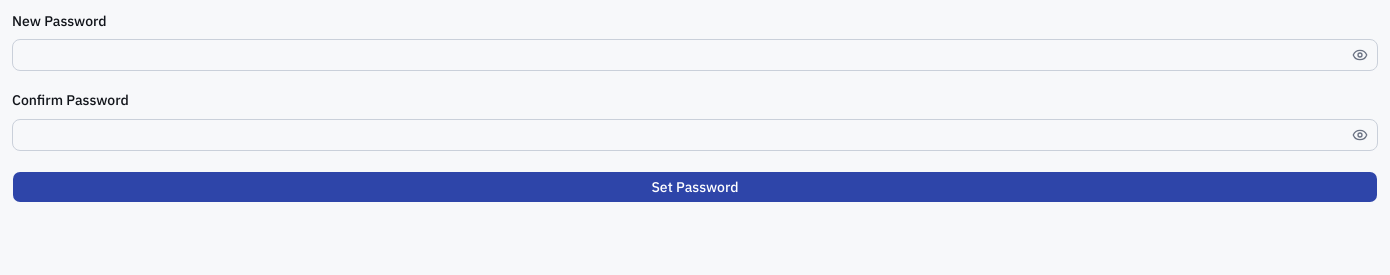
Test: SetPasswordForm › shows a mismatch error below Confirm Password
In the password field labelled "New Password": (695, 55) [12,39,1378,71], type "ValidPassword123!"
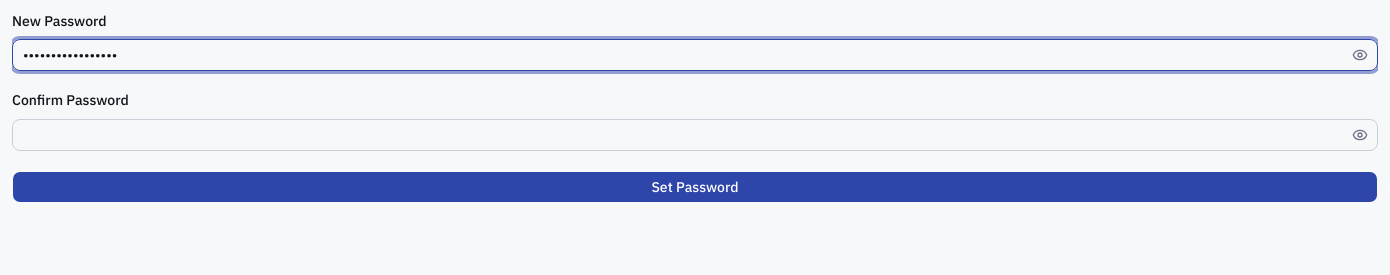
In the password field labelled "Confirm Password": (695, 134) [12,118,1378,150], type "DifferentPassword123!"
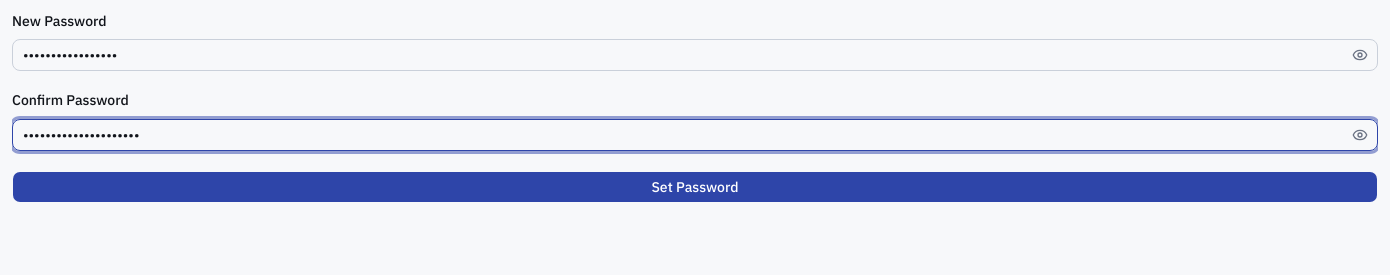
Click the button "Set Password": (695, 186) [12,170,1378,202]
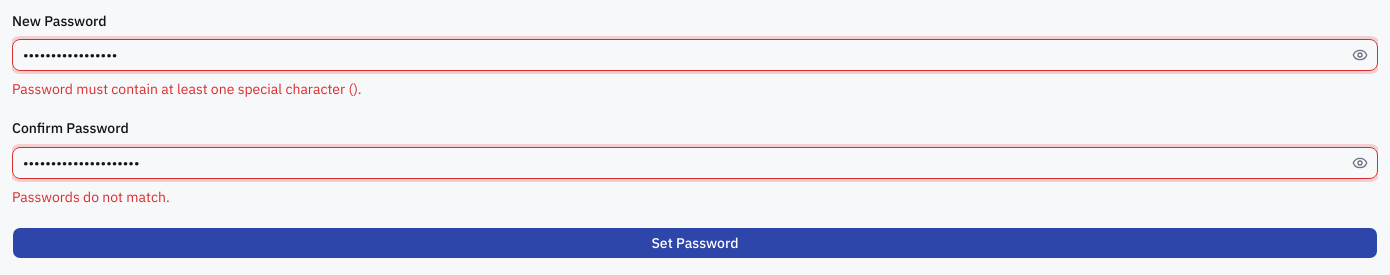
Check: the text "Passwords do not match." is shown, box [12,188,170,206]
